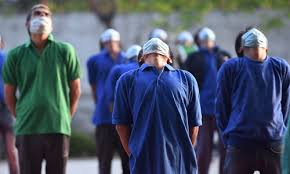mask: (30, 4, 55, 39), (238, 28, 270, 55), (139, 38, 172, 59), (101, 27, 121, 45), (195, 25, 217, 41), (124, 44, 145, 60), (175, 29, 193, 45), (149, 28, 168, 40)
